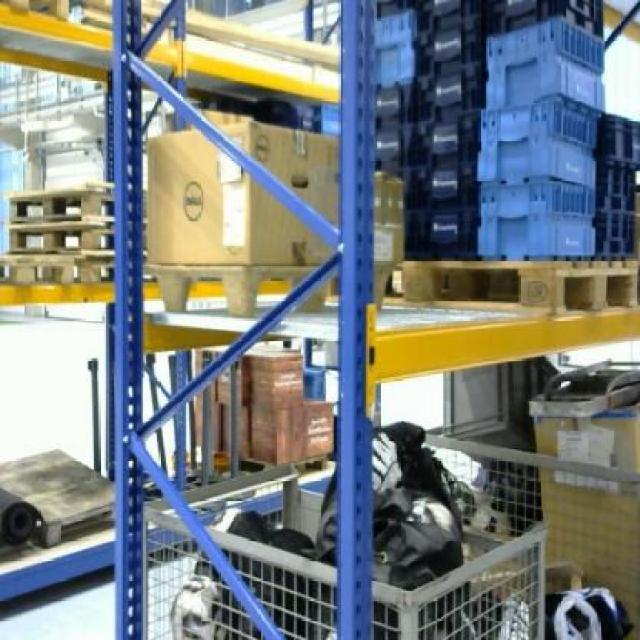box: (147, 120, 340, 265), (539, 418, 639, 577), (371, 174, 404, 264)
